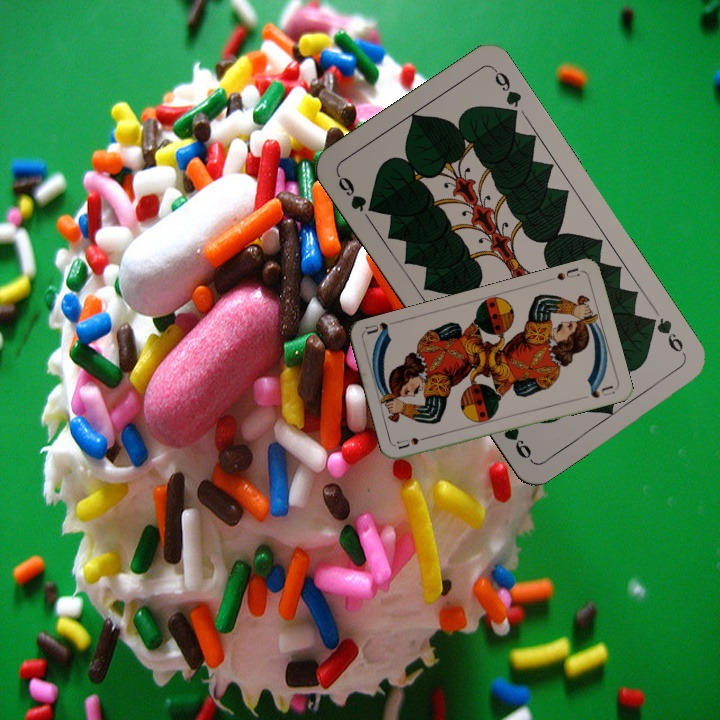G9: (332, 170, 380, 216), (642, 313, 689, 359)
SU: (394, 432, 434, 452), (552, 264, 584, 283)
